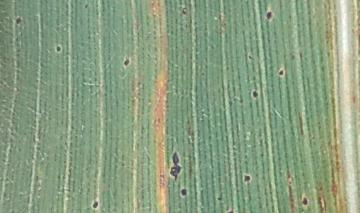tarspot: (169, 151, 182, 181), (14, 14, 22, 27), (300, 194, 309, 205), (122, 56, 131, 67), (91, 199, 100, 210), (216, 190, 224, 202), (179, 187, 188, 197), (251, 89, 259, 100), (265, 11, 273, 22), (54, 44, 62, 55), (180, 6, 189, 15), (243, 174, 251, 184), (277, 68, 285, 78), (246, 53, 255, 61), (224, 209, 236, 213), (83, 3, 90, 9)
